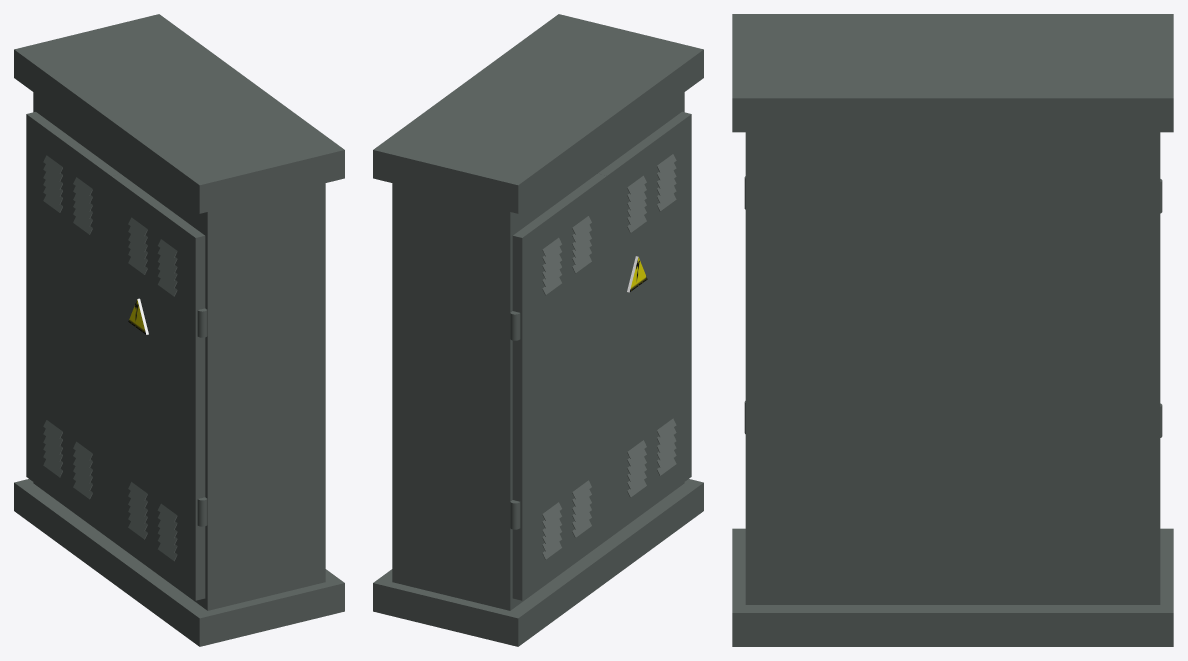
Rendered from Shkaf2.fbx.
The picture shows the model from 3 angles, left to right: view 1: azimuth 30°, elevation 25°; view 2: azimuth 150°, elevation 25°; view 3: azimuth 270°, elevation 25°; orthographic projection. The views are drawn at different scales.
Parts seen in each view (by area): view 1: Куб.001; view 2: Куб.001; view 3: Куб.001.
Part boxes in pixels (<box>): Куб.001: <box>14,14,344,646</box>; Куб.001: <box>373,14,703,646</box>; Куб.001: <box>732,14,1173,646</box>.
Size of the model in its own units: 1084 by 3292 by 2400.
2 materials, 1 textured.
